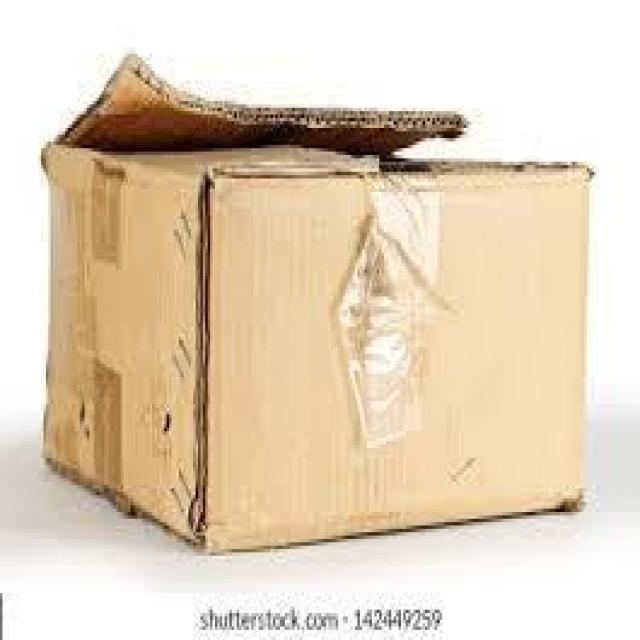box: (41, 54, 594, 556)
